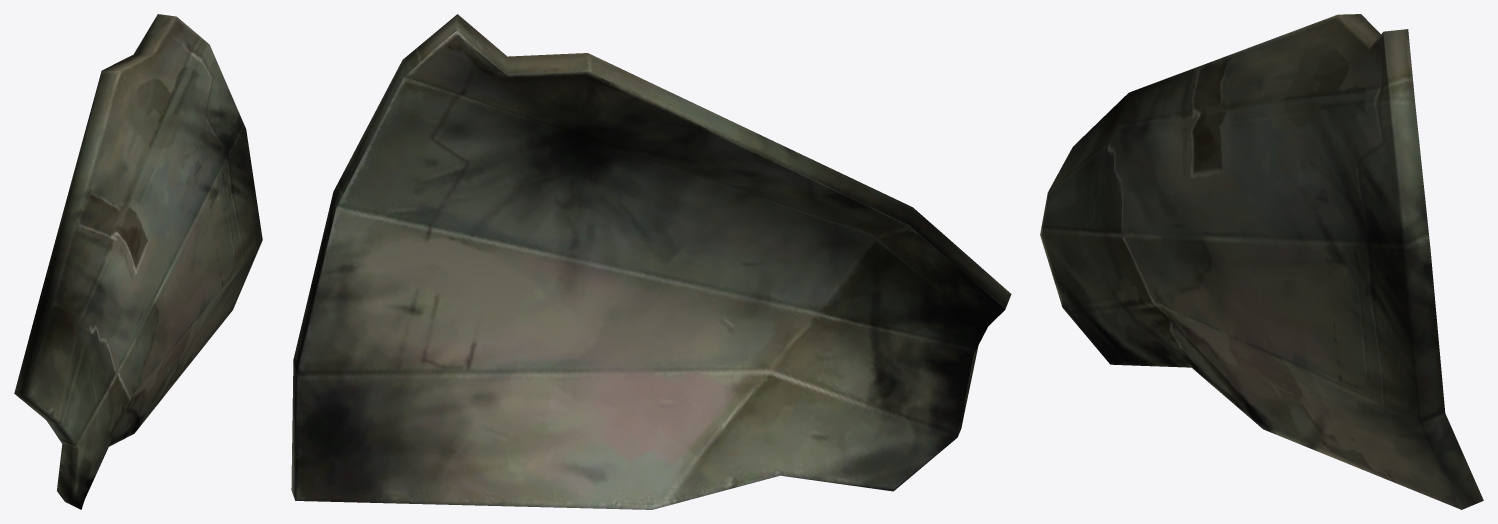
File: ord_item_sav_debris_small_06.glb
3 views of the same model, side by side, from view 1: azimuth 30°, elevation 25°; view 2: azimuth 150°, elevation 25°; view 3: azimuth 270°, elevation 25° (orthographic). The views are drawn at different scales.
Visible parts, largest first — view 1: ord_item_sav_debris_small_06; view 2: ord_item_sav_debris_small_06; view 3: ord_item_sav_debris_small_06.
Boxes of the visible parts, x1,y1,x2,y2 form: ord_item_sav_debris_small_06: [14, 14, 262, 509]; ord_item_sav_debris_small_06: [291, 14, 1011, 509]; ord_item_sav_debris_small_06: [1040, 14, 1483, 509].
Bounding box in the file's own units: 0.4046 × 0.3729 × 0.3273.
1 material, 1 textured.
